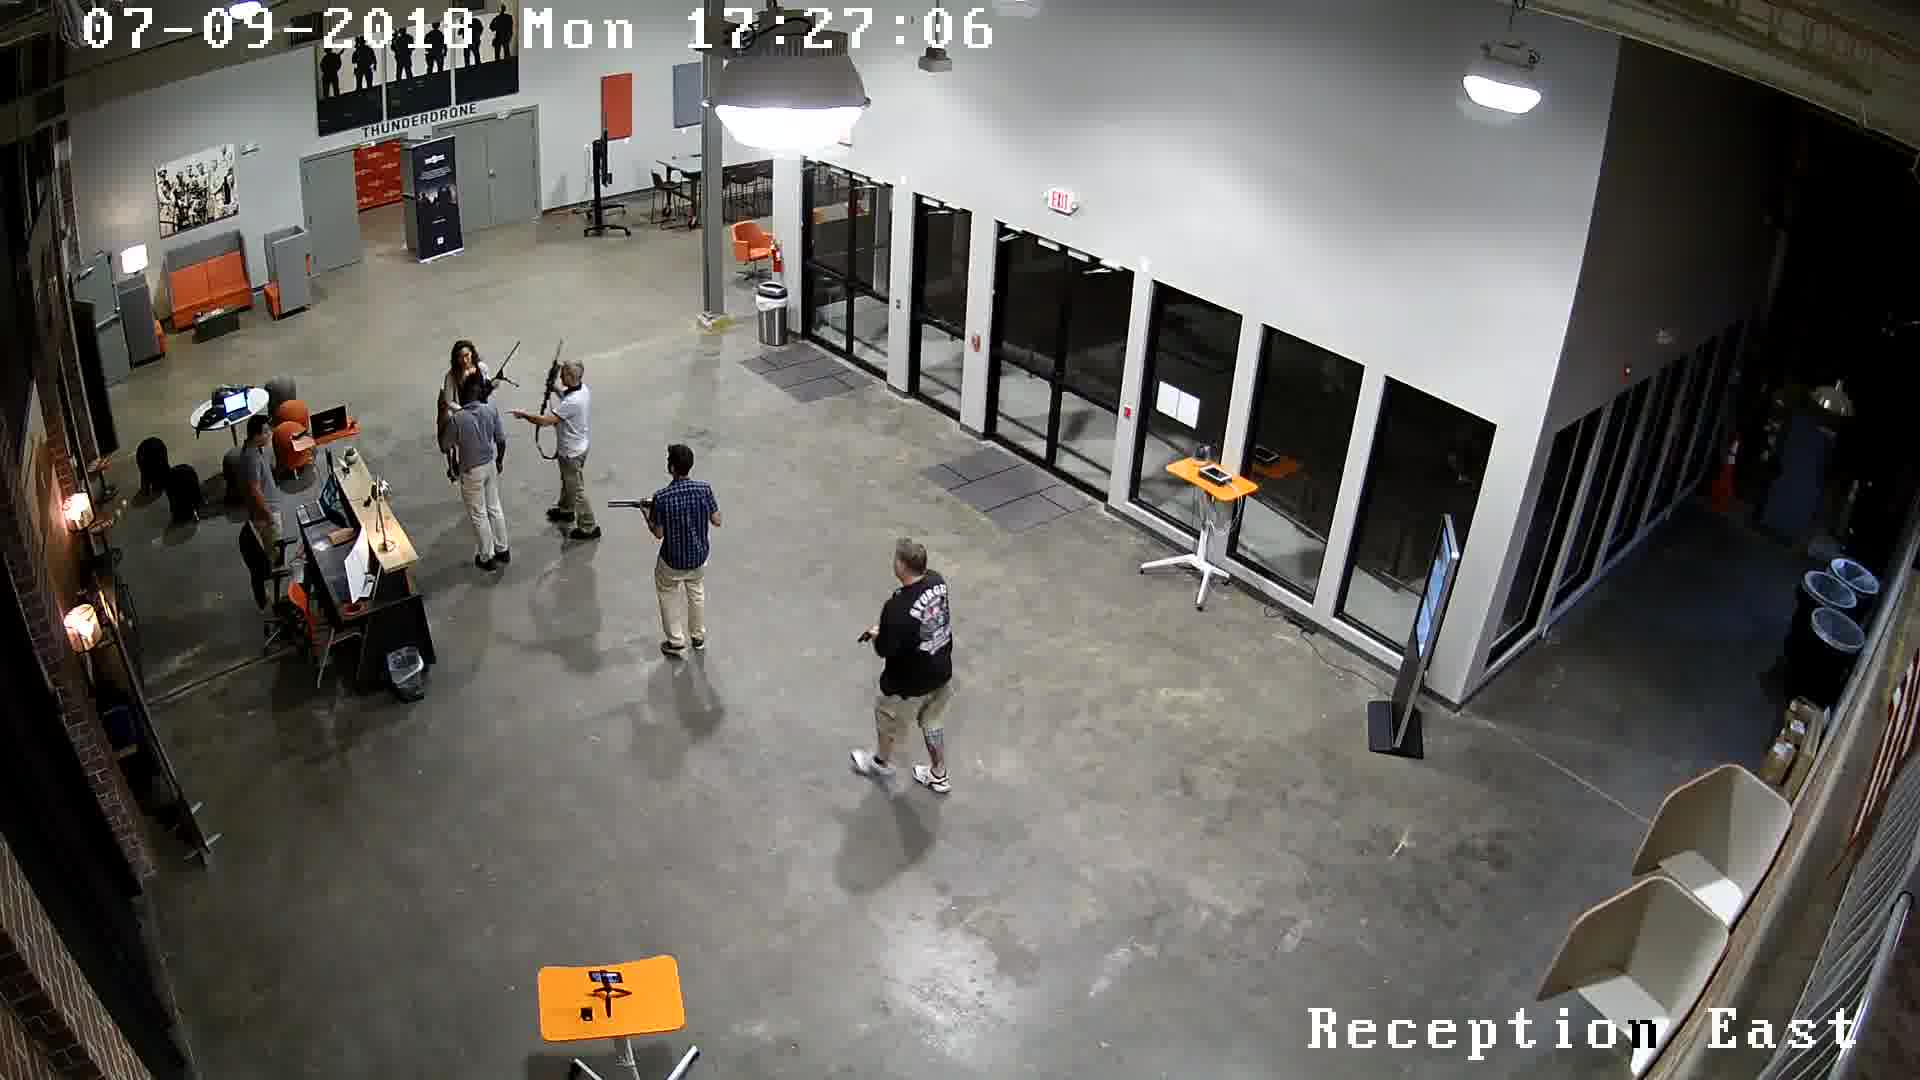pistol: (847, 617, 890, 658)
